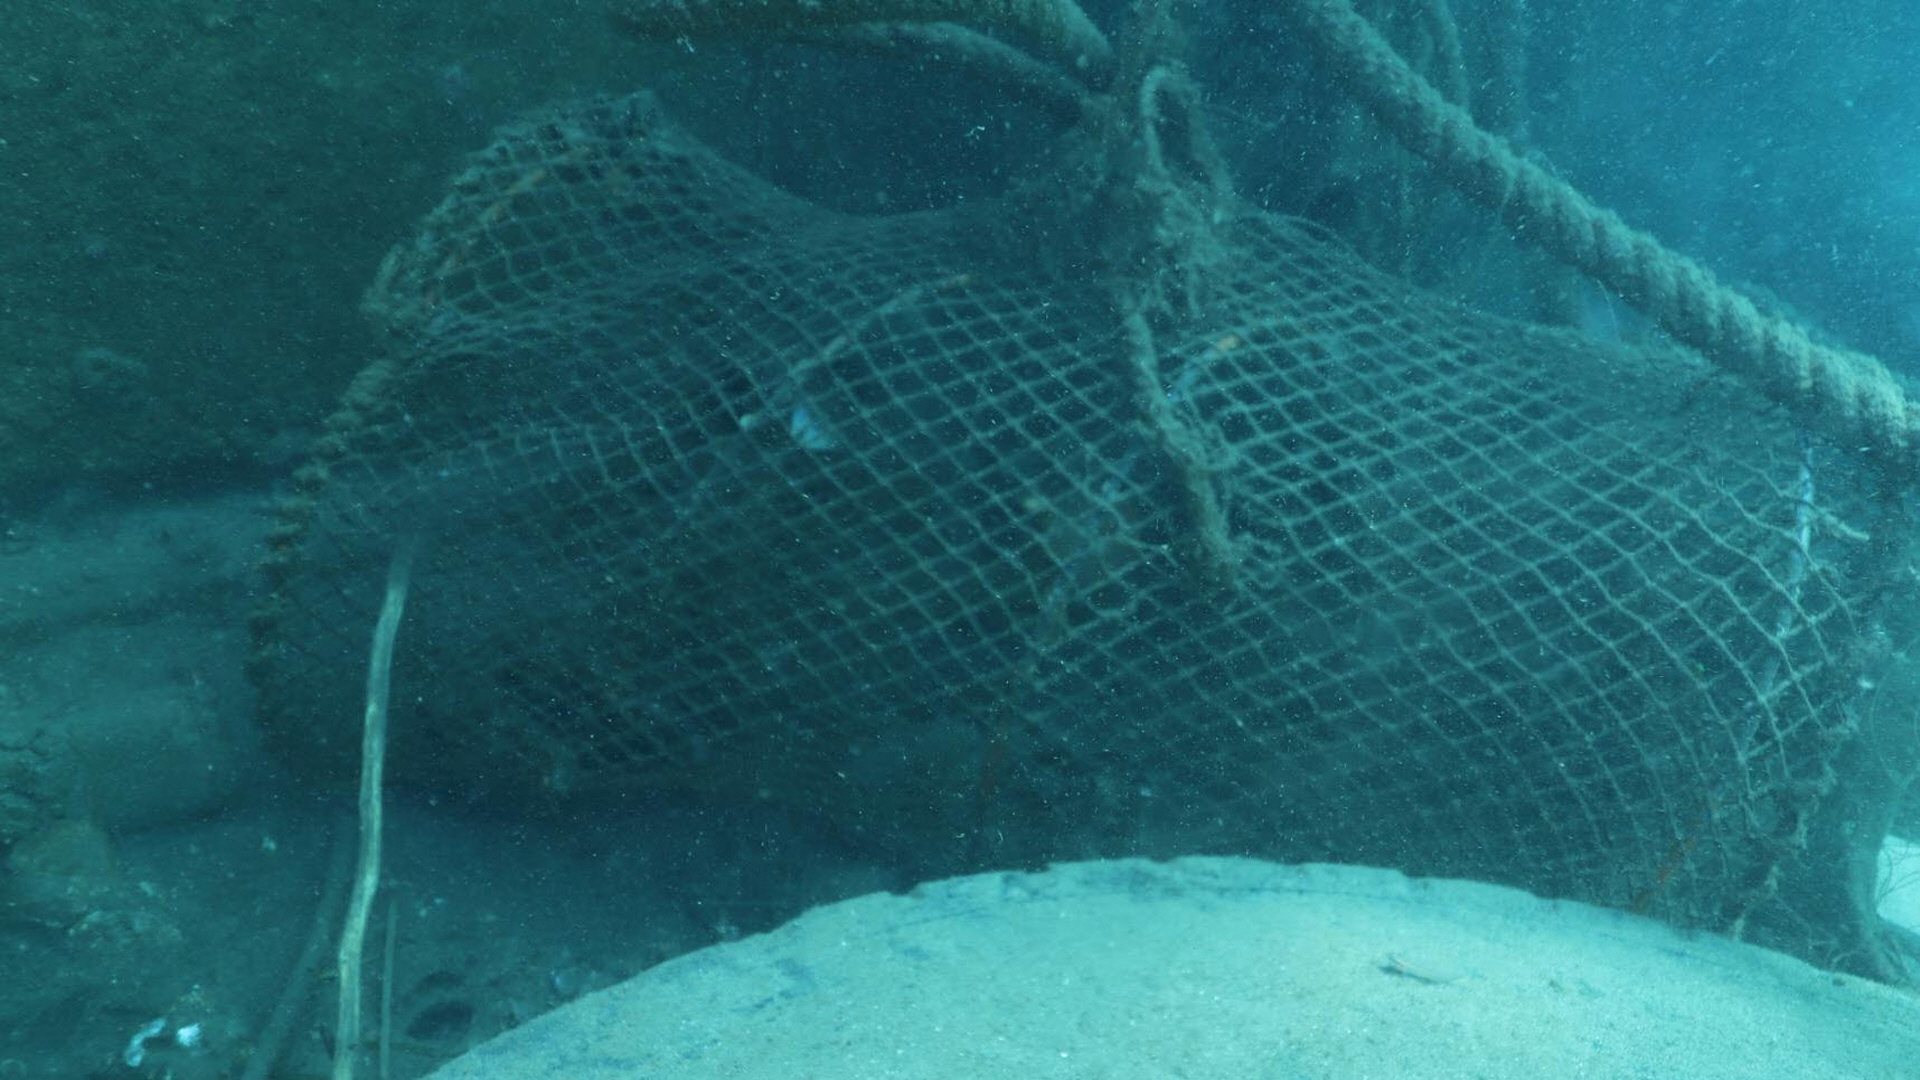bundle of ropes: (761, 0, 1117, 91)
rope: (1279, 3, 1920, 456)
spring fish trap: (243, 80, 1905, 942)
